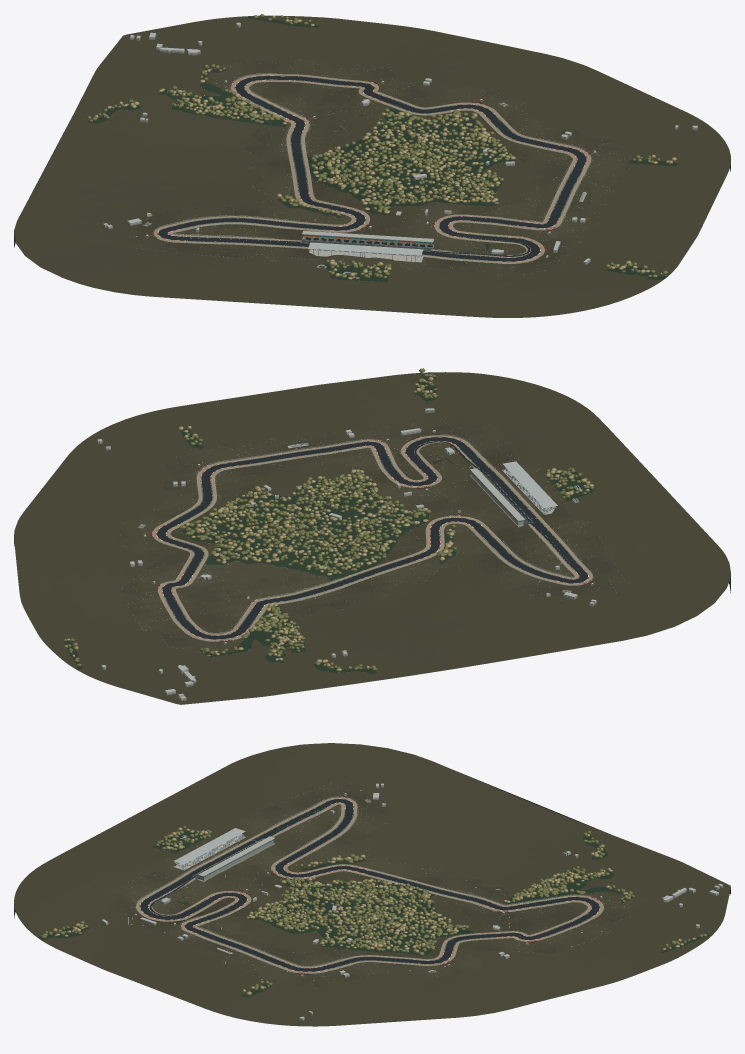
Rendered from Budapest.glb.
The picture shows the model from 3 angles, top to bottom: view 1: azimuth 30°, elevation 25°; view 2: azimuth 150°, elevation 25°; view 3: azimuth 270°, elevation 25°; orthographic projection. The views are drawn at different scales.
Parts seen in each view (by area): view 1: terrain/ground, terrain-ground-finish-1, terrain-ground-finish-3, terrain-woodland/forestFloor, terrain-ground-finish-2, scenery/leaves, road/asphalt, runoff/gravel, terrain-ground-finish-0, terrain-ground-finish-4, scenery/leavesLight, scenery-detail-canopy/crown-leaves (+7 smaller); view 2: terrain/ground, terrain-ground-finish-1, terrain-ground-finish-3, terrain-ground-finish-2, terrain-woodland/forestFloor, scenery/leaves, road/asphalt, terrain-ground-finish-0, runoff/gravel, terrain-ground-finish-4, scenery/leavesLight, scenery-detail-canopy/crown-leaves (+5 smaller); view 3: terrain/ground, terrain-ground-finish-1, terrain-ground-finish-2, terrain-ground-finish-3, scenery/leaves, terrain-woodland/forestFloor, road/asphalt, runoff/gravel, terrain-ground-finish-0, terrain-ground-finish-4, scenery/leavesLight, scenery-detail-canopy/crown-leaves (+4 smaller).
Boxes of the visible parts, bbox=[...] form: terrain/ground: bbox=[14, 15, 730, 317]; terrain-ground-finish-1: bbox=[120, 60, 634, 273]; terrain-ground-finish-3: bbox=[116, 61, 628, 276]; terrain-woodland/forestFloor: bbox=[88, 16, 677, 282]; terrain-ground-finish-2: bbox=[123, 60, 632, 275]; scenery/leaves: bbox=[87, 14, 668, 279]; road/asphalt: bbox=[158, 76, 586, 261]; runoff/gravel: bbox=[154, 74, 591, 263]; terrain-ground-finish-0: bbox=[135, 61, 621, 270]; terrain-ground-finish-4: bbox=[127, 59, 623, 269]; scenery/leavesLight: bbox=[94, 15, 676, 279]; scenery-detail-canopy/crown-leaves: bbox=[224, 89, 506, 216]; terrain/ground: bbox=[14, 372, 730, 699]; terrain-ground-finish-1: bbox=[117, 421, 617, 651]; terrain-ground-finish-3: bbox=[119, 422, 625, 654]; terrain-ground-finish-2: bbox=[119, 418, 621, 653]; terrain-woodland/forestFloor: bbox=[64, 372, 594, 673]; scenery/leaves: bbox=[63, 368, 593, 670]; road/asphalt: bbox=[156, 437, 587, 639]; terrain-ground-finish-0: bbox=[119, 424, 613, 647]; runoff/gravel: bbox=[152, 435, 592, 641]; terrain-ground-finish-4: bbox=[123, 433, 627, 654]; scenery/leavesLight: bbox=[64, 372, 593, 671]; scenery-detail-canopy/crown-leaves: bbox=[179, 478, 456, 638]; terrain/ground: bbox=[14, 743, 725, 1026]; terrain-ground-finish-1: bbox=[109, 784, 629, 987]; terrain-ground-finish-2: bbox=[109, 786, 630, 985]; terrain-ground-finish-3: bbox=[109, 782, 630, 985]; scenery/leaves: bbox=[40, 826, 706, 995]; terrain-woodland/forestFloor: bbox=[37, 830, 710, 997]; road/asphalt: bbox=[140, 799, 599, 971]; runoff/gravel: bbox=[136, 797, 603, 973]; terrain-ground-finish-0: bbox=[114, 790, 625, 988]; terrain-ground-finish-4: bbox=[132, 782, 630, 981]; scenery/leavesLight: bbox=[46, 827, 694, 994]; scenery-detail-canopy/crown-leaves: bbox=[259, 854, 585, 955].
Size of the model in its own units: 1772 by 72.26 by 1927.
